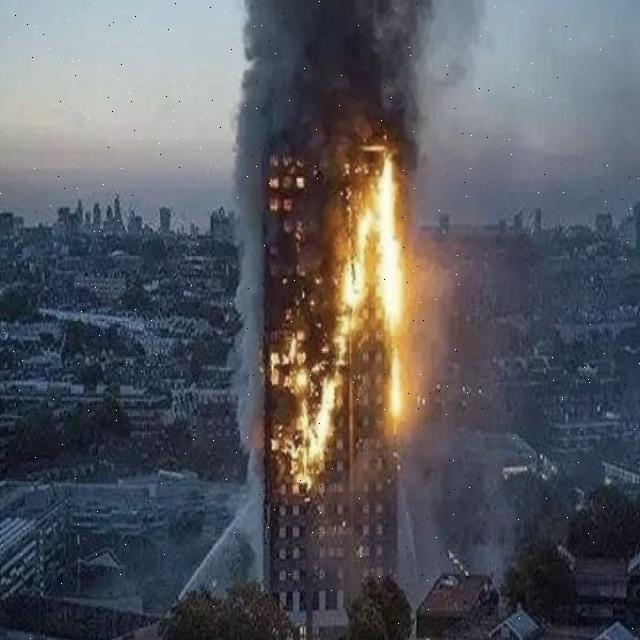fire: (335, 149, 416, 448), (266, 335, 345, 506)
smoke: (214, 0, 278, 572), (287, 0, 438, 141)
